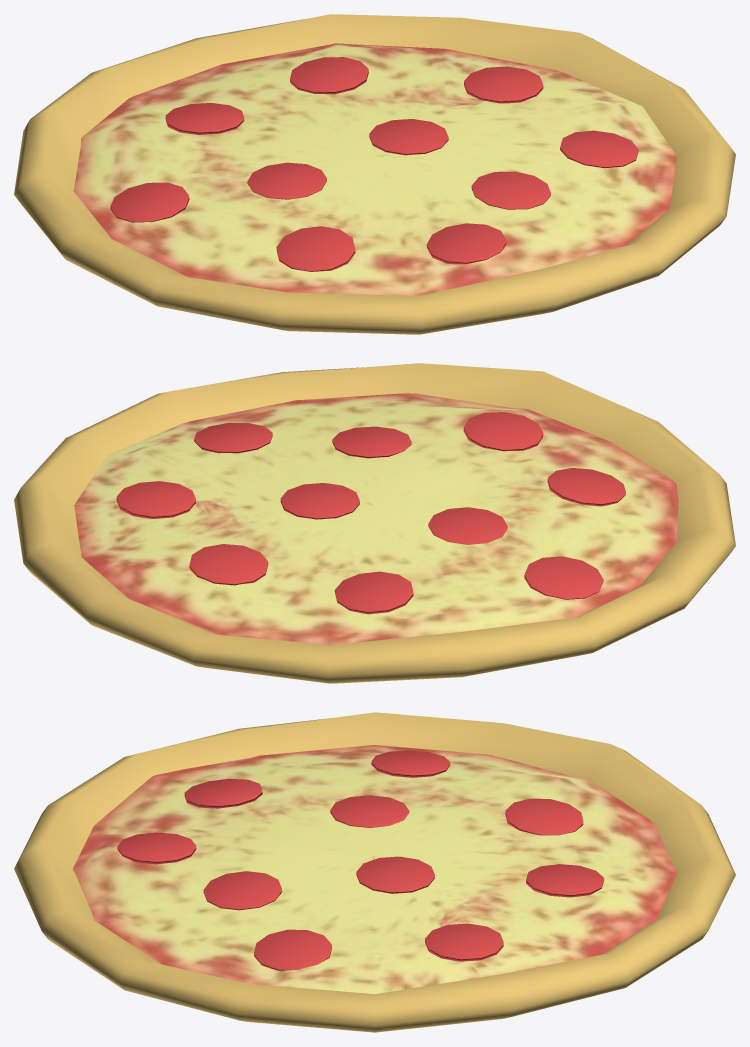
File: pizza.fbx
The picture shows the model from 3 angles, top to bottom: view 1: azimuth 30°, elevation 25°; view 2: azimuth 150°, elevation 25°; view 3: azimuth 270°, elevation 25°; orthographic projection.
Visible parts, largest first — view 1: pizza; view 2: pizza; view 3: pizza.
Part boxes in pixels (x1=…): pizza: x1=14, y1=14, x2=735, y2=334; pizza: x1=14, y1=363, x2=735, y2=683; pizza: x1=14, y1=712, x2=735, y2=1032.
Bounding box in the file's own units: 0.6923 × 0.0708 × 0.6923.
